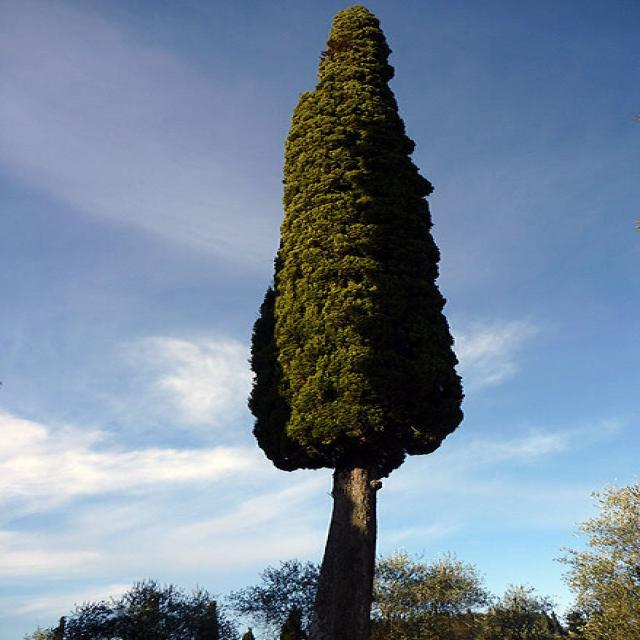cipres: (222, 0, 472, 640)
